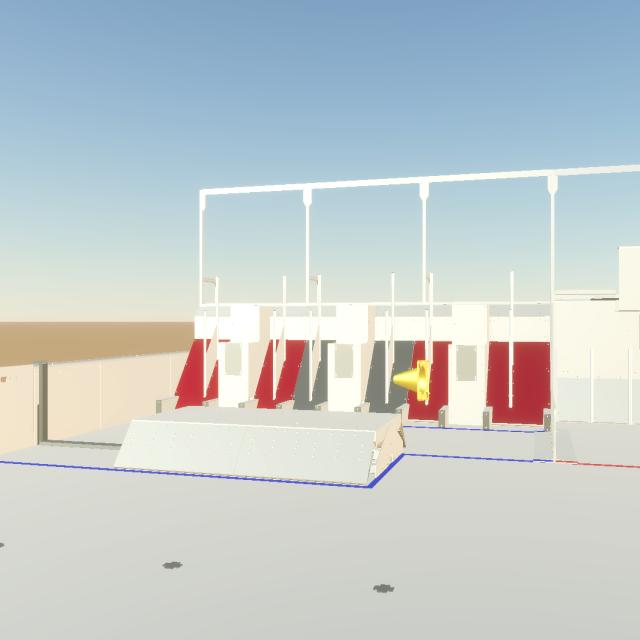frc_cone: (393, 360, 430, 401)
